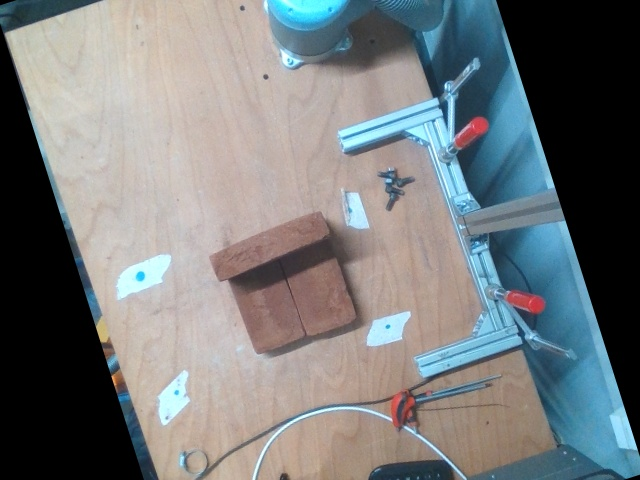brick-side: (213, 209, 330, 280)
